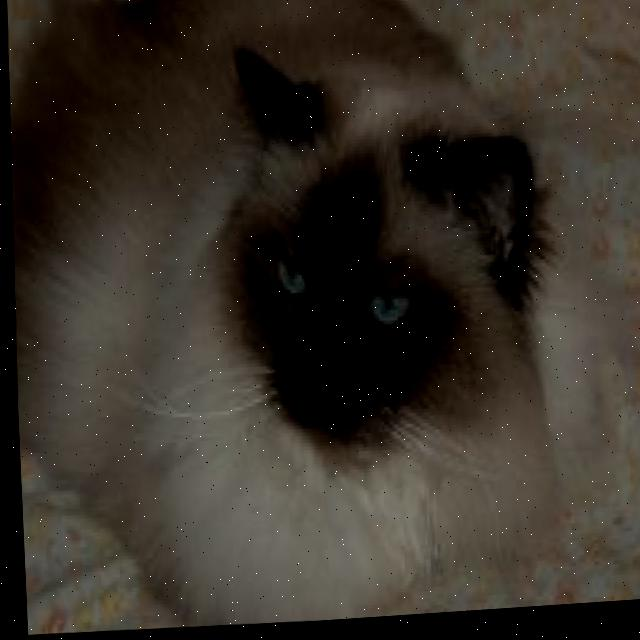Birman: (0, 0, 567, 640)
